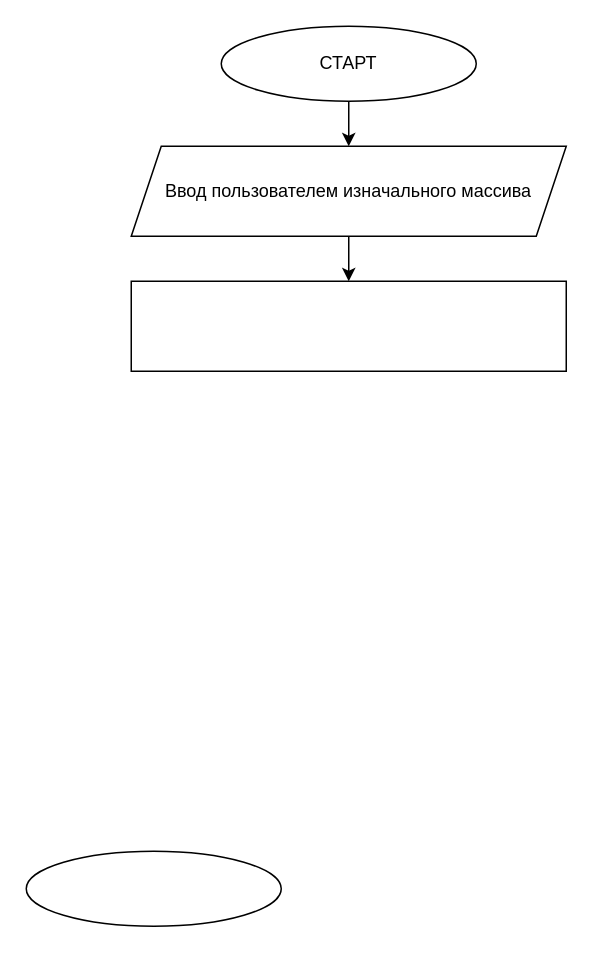
This 593x953 diagram has some shape labels left out. Here are the shapes that lost their labels. From the top down, the centre of each, then its label:
the point at 348,325: Превращение входной строки в массив строк
the point at 153,888: КОНЕЦ
